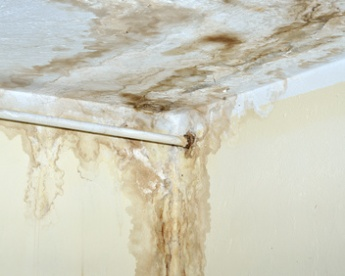Fusarium: (124, 136, 211, 254), (163, 51, 290, 119), (10, 111, 72, 186)
